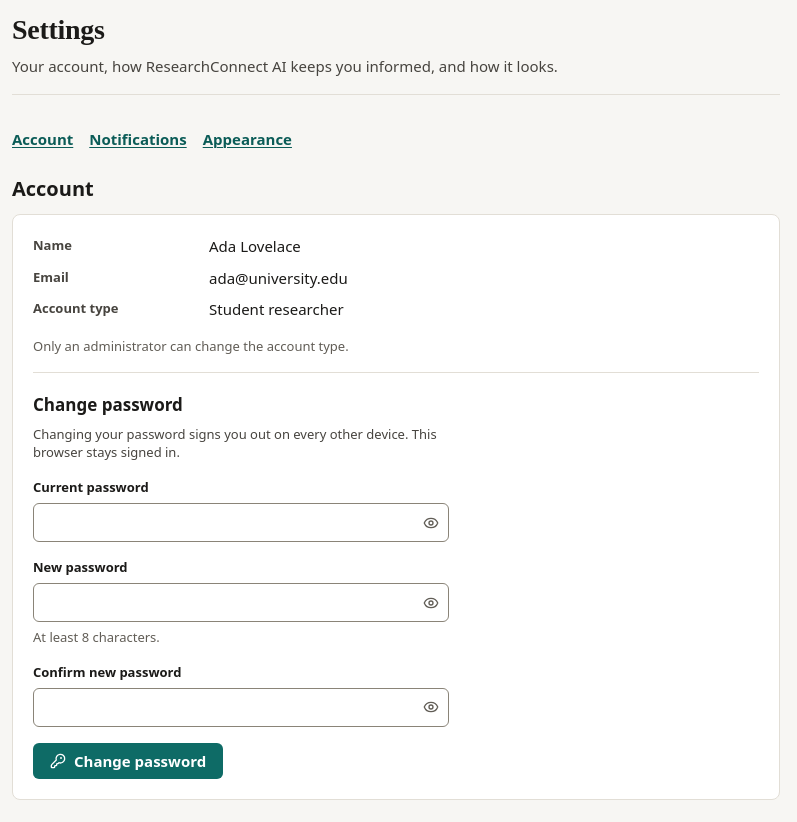
change password › keeps this browser signed in with the fresh token
The image size is (797, 822).
In the password field labelled "Current password": (241, 523) [33,503,449,542], type "old-password"
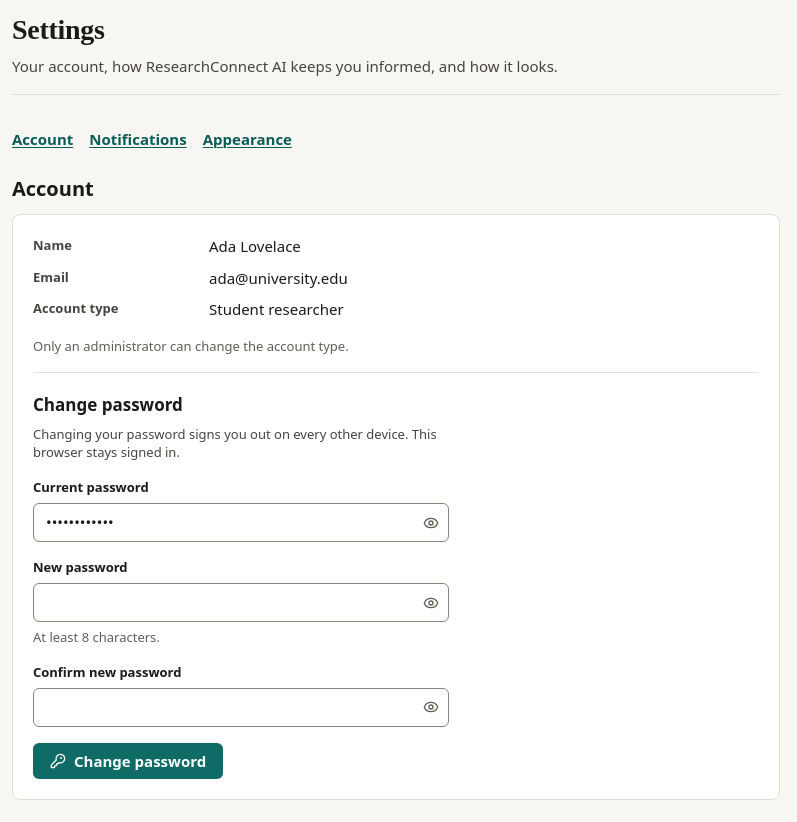
In the password field labelled "New password": (241, 602) [33,583,449,622], type "a-new-password"
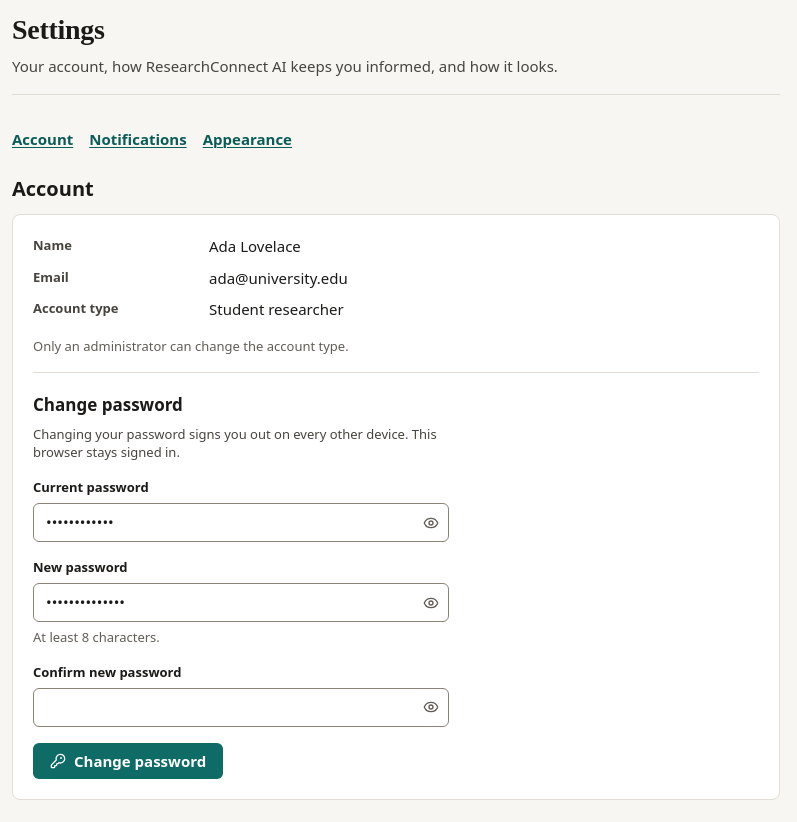
In the password field labelled "Confirm new password": (241, 707) [33,688,449,727], type "a-new-password"
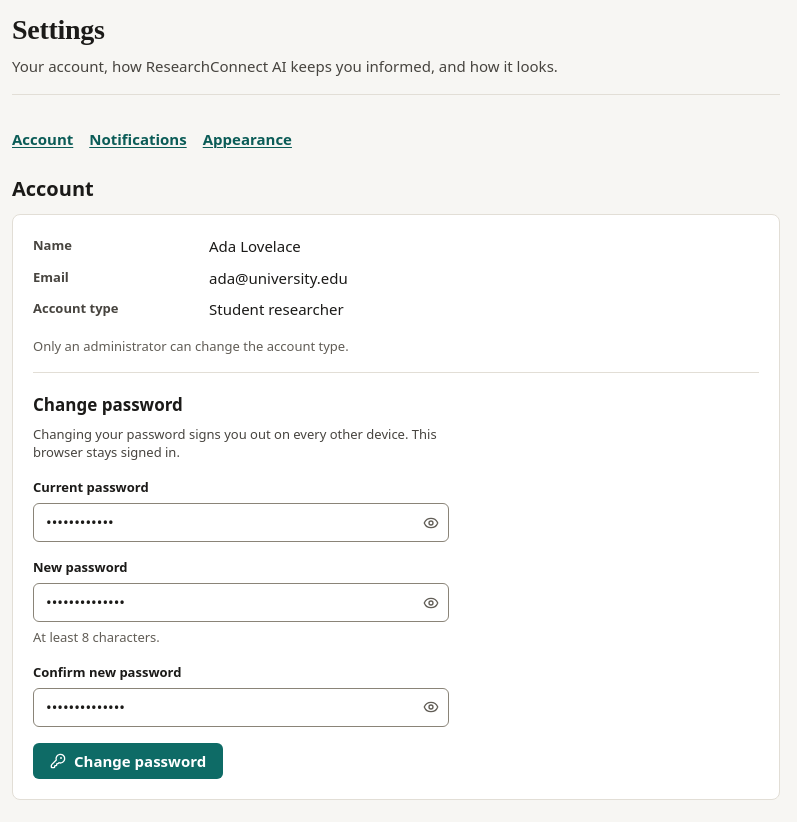
Click the button "Change password": (128, 761) [33,743,223,779]
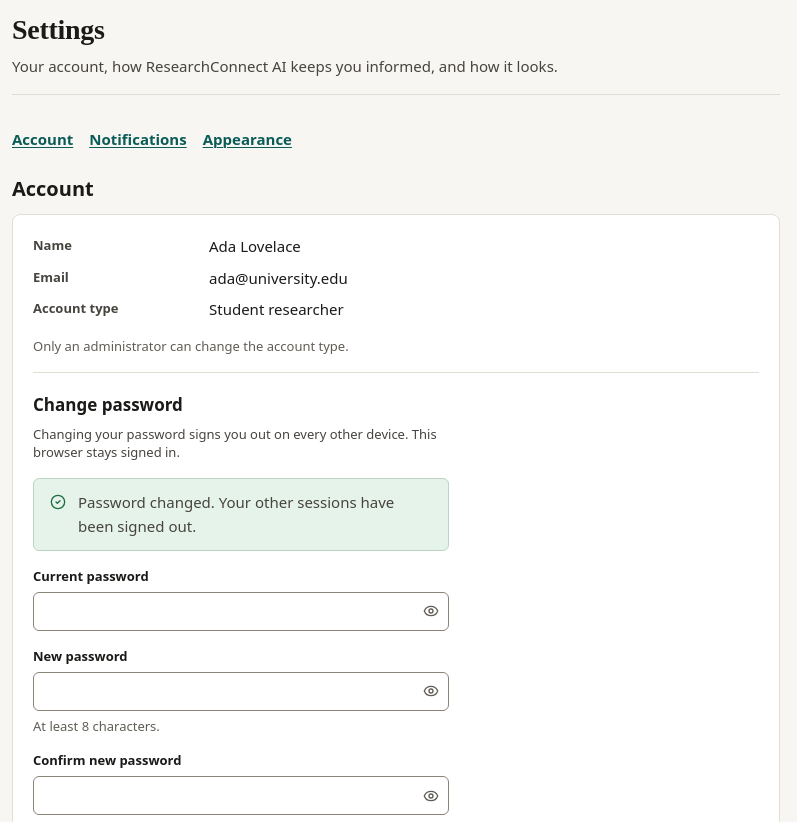
Expected: the text "Password changed. Your other sessions have been signed out." is shown, [78,491,432,538]
Expected: the message reads "Password changed. Your other sessions have been signed out.", [78,492,394,536]
Expected: the password field labelled "Current password" is empty, [33,592,449,631]
